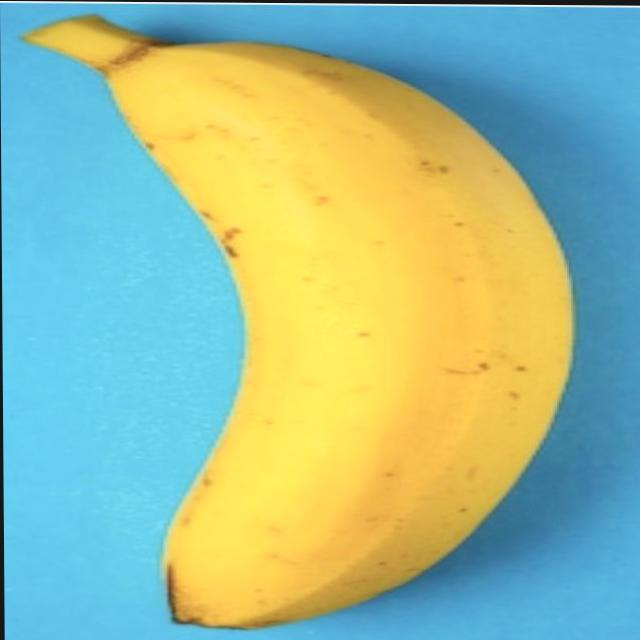banana: (118, 26, 606, 623)
